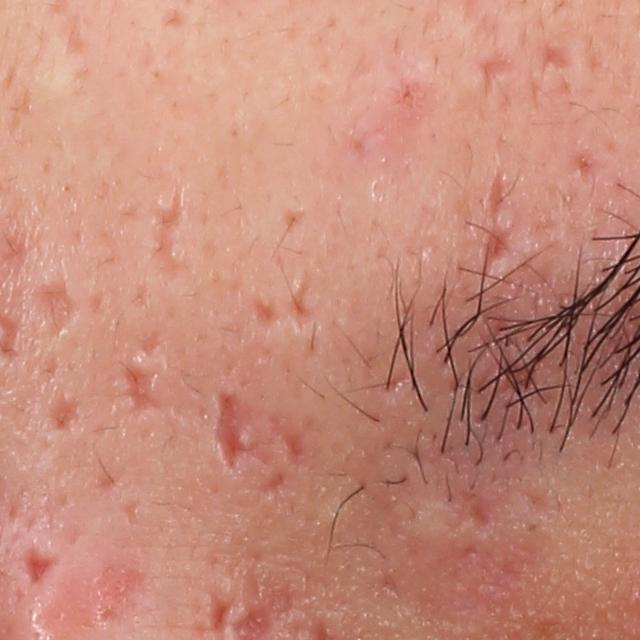atrophic_scar: (212, 388, 257, 486), (151, 178, 188, 281), (35, 273, 79, 337), (43, 390, 93, 440), (121, 362, 164, 416), (514, 483, 565, 524), (477, 53, 521, 96), (290, 270, 315, 331), (483, 226, 513, 273), (3, 87, 32, 135), (250, 292, 282, 330), (538, 42, 571, 77), (26, 546, 58, 582), (61, 13, 86, 59), (281, 203, 308, 235), (488, 172, 503, 227), (0, 57, 19, 96), (141, 326, 165, 356), (95, 466, 122, 491), (123, 501, 140, 531)
hypertrophic_scar: (396, 490, 485, 551), (240, 424, 262, 448), (155, 192, 177, 211), (169, 244, 188, 264)
